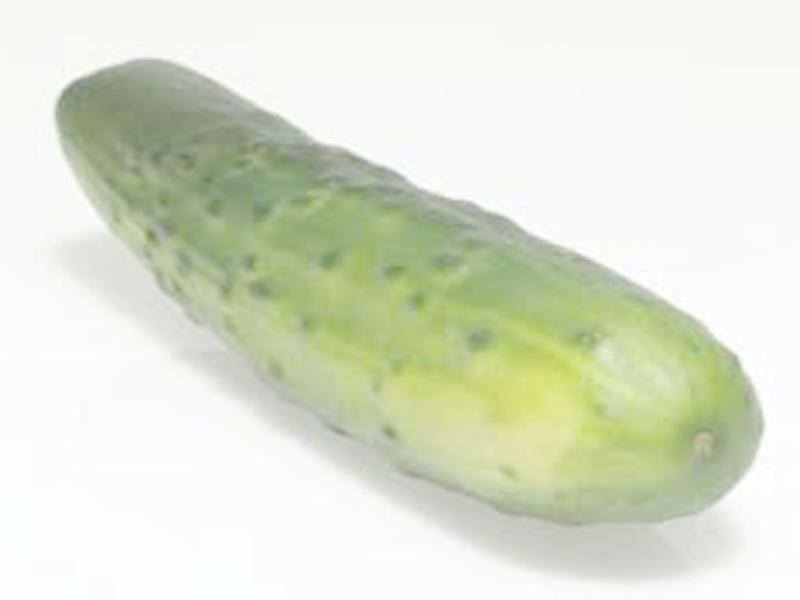Cucumber: (54, 58, 758, 519)
